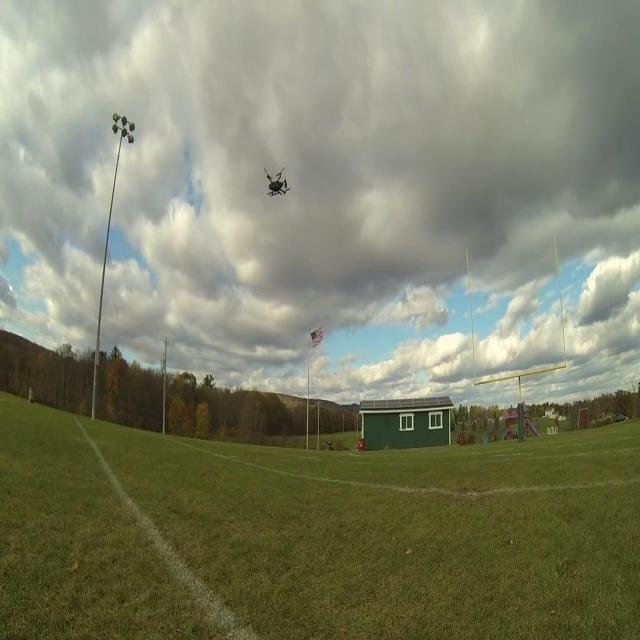drone: (263, 164, 290, 201)
